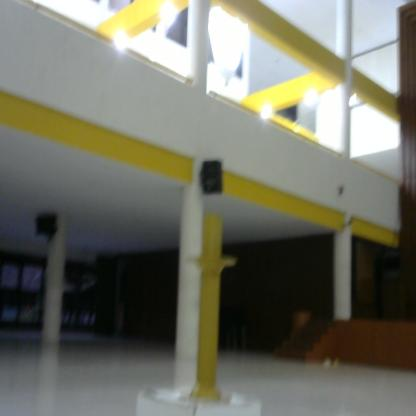pole: (186, 207, 241, 410)
